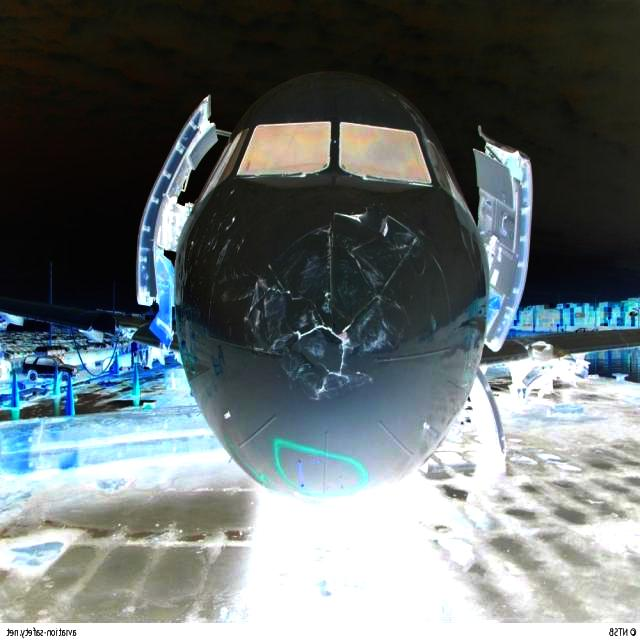crack: (242, 206, 424, 405)
